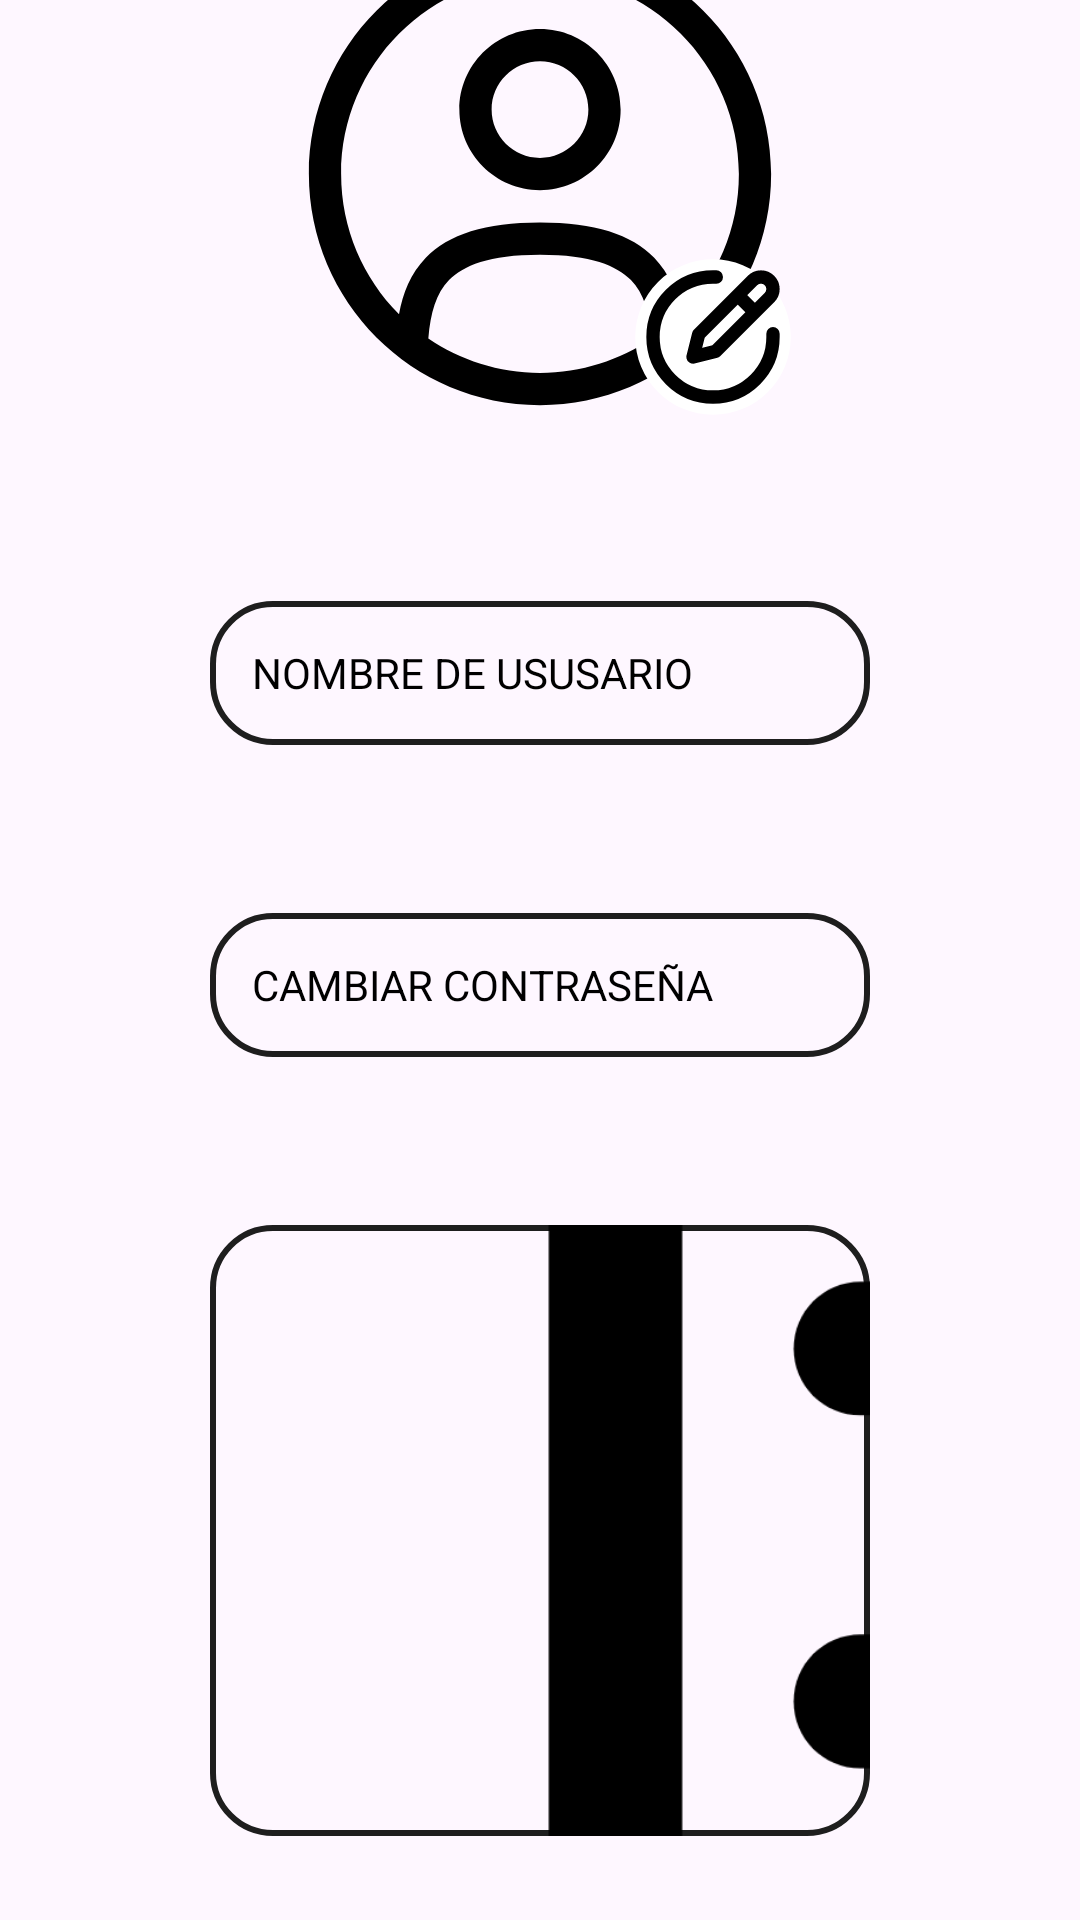

Icon bounding boxes for this 1080×1920 phone screenshot, format (x1=x1, y1=y1, x2=x2, y2=y2):
edit: (x1=617, y1=241, x2=790, y2=414)
